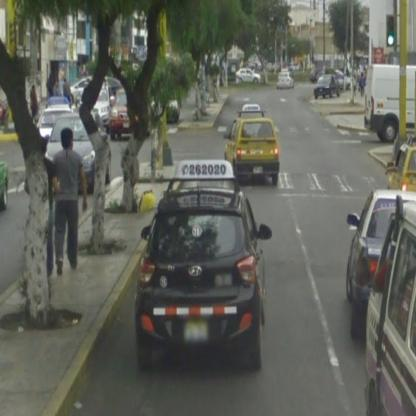Peaton: (54, 132, 89, 274)
Pista: (70, 96, 387, 413), (2, 143, 146, 290)
Vehiculo: (134, 191, 267, 372), (364, 199, 416, 416), (346, 192, 414, 339), (48, 114, 113, 193), (365, 65, 416, 145), (224, 117, 279, 187), (388, 145, 416, 193), (36, 106, 74, 139), (111, 87, 133, 141), (315, 74, 341, 101), (236, 70, 262, 85), (277, 73, 296, 93)
